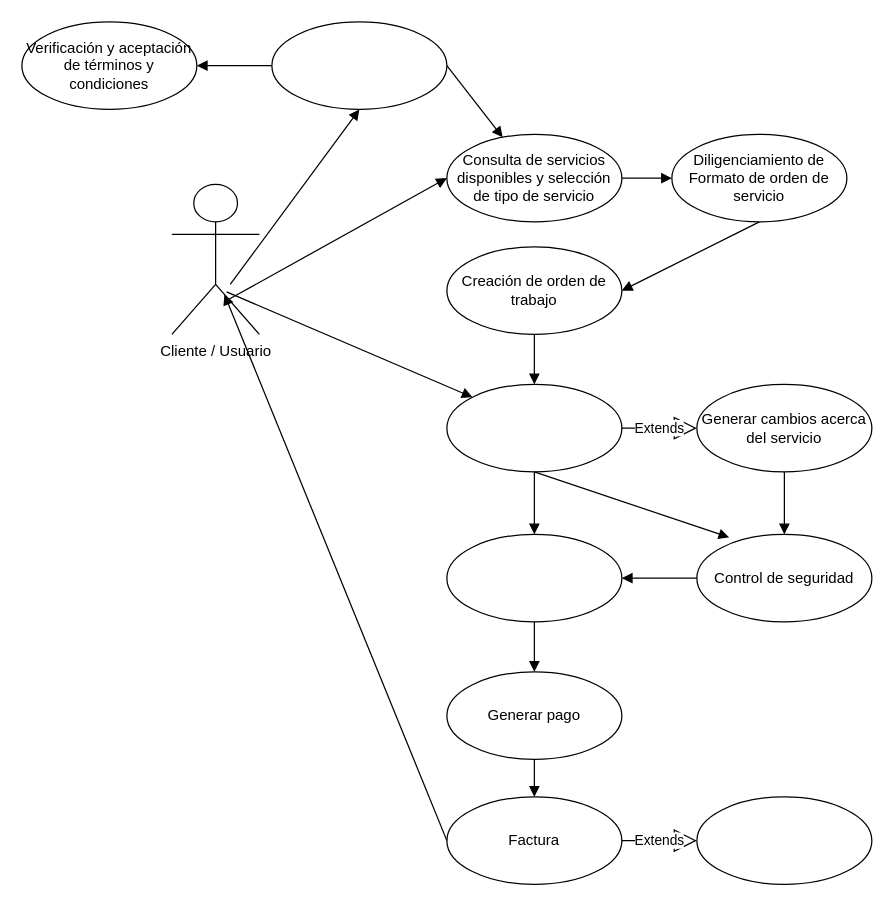
This 894x906 diagram has some shape labels left out. The centre of each missing label's shape, as x and y in pixels:
"Control de procesos del servicio" belongs at point 534,577.
"Registro y Autenticación" belongs at point 359,65.
"Seguimiento del servicio" belongs at point 534,427.
"Valoración del técnico / servicio realizado" belongs at point 784,840.
